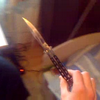knife: (22, 17, 72, 86)
